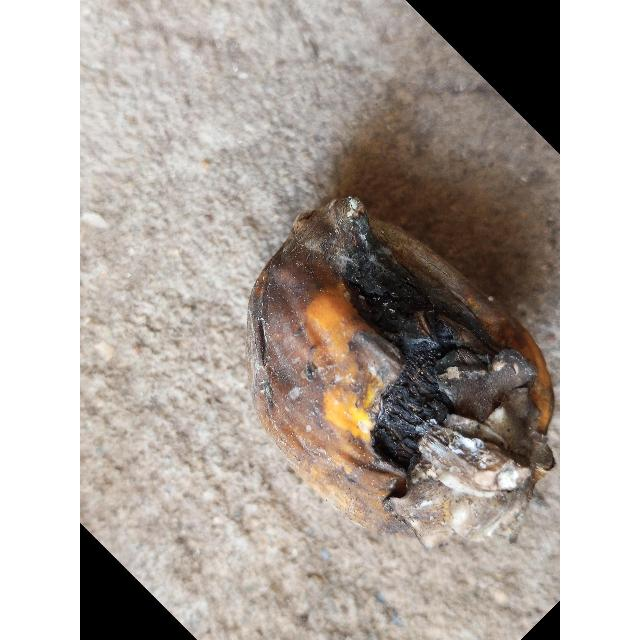damaged: (248, 197, 554, 549)
